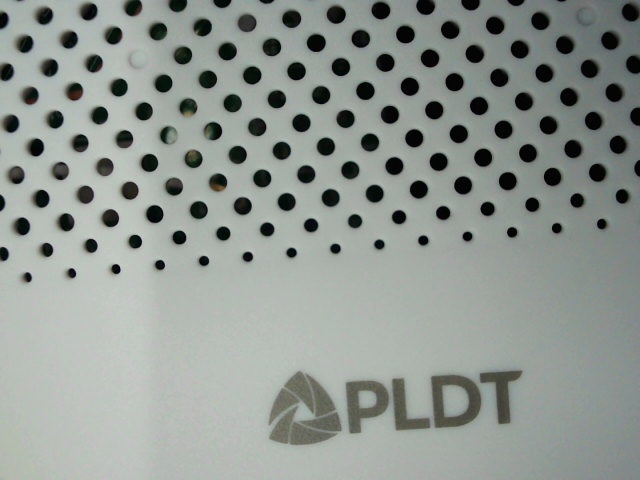BH_PLDT: (239, 345, 539, 453)
